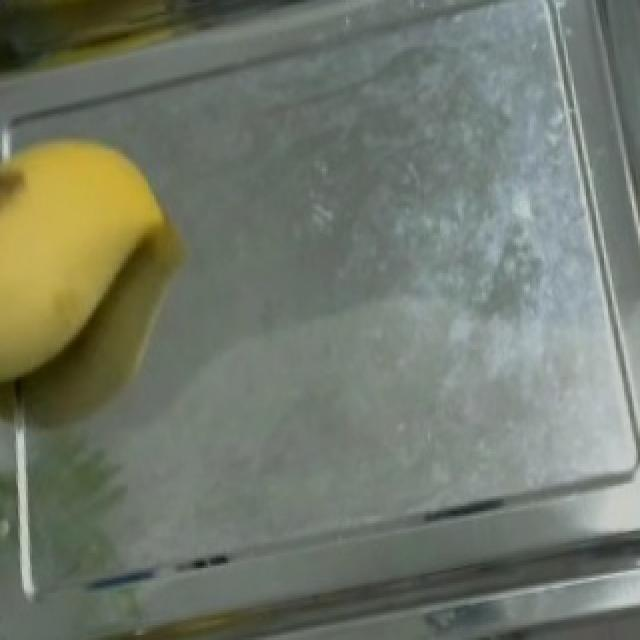fruit: (0, 94, 208, 412), (0, 0, 234, 74)
